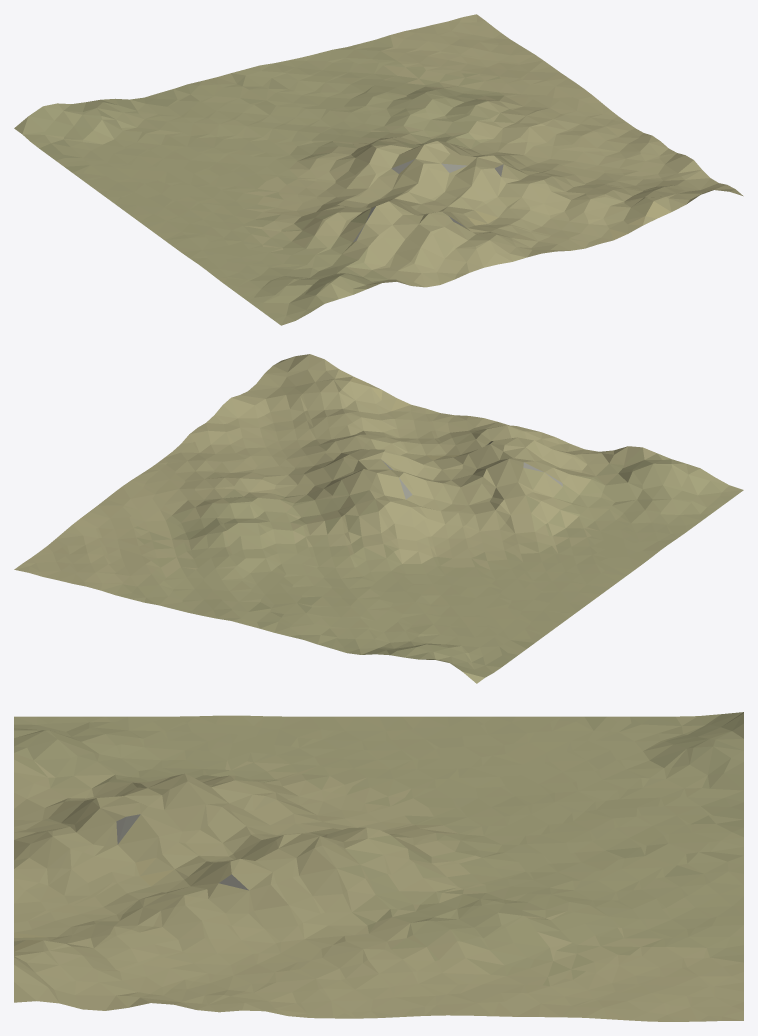
The model's file is Ground_-3_-4.glb.
3 views of the same model, one above another, from view 1: azimuth 30°, elevation 25°; view 2: azimuth 150°, elevation 25°; view 3: azimuth 270°, elevation 25° (orthographic). The views are drawn at different scales.
Parts seen in each view (by area): view 1: Ground_-3_-4; view 2: Ground_-3_-4; view 3: Ground_-3_-4.
Part boxes in pixels (x1,y1,x2,y2): Ground_-3_-4: (14,14,743,325); Ground_-3_-4: (14,354,743,683); Ground_-3_-4: (14,712,743,1021).
Bounding box in the file's own units: 768 × 58.54 × 768.
